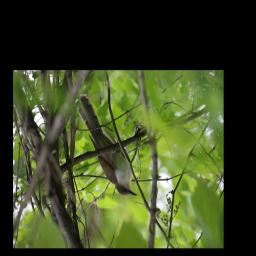Cuckoo: (75, 93, 139, 199)
